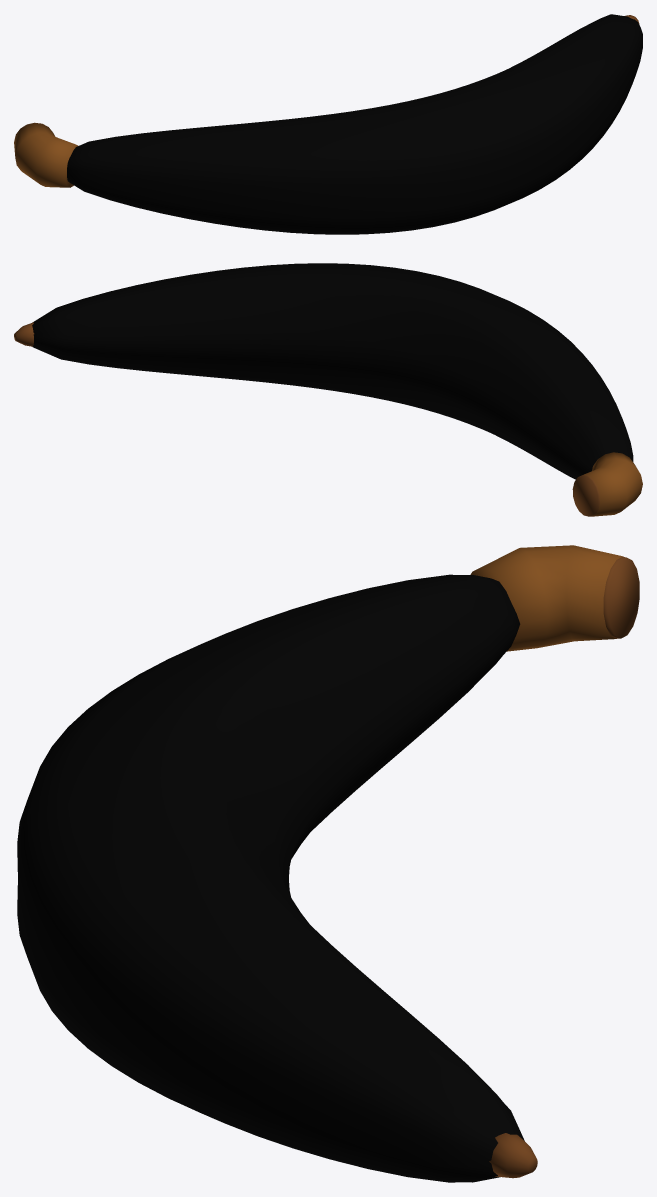
Rendered from banana.fbx.
3 renders of one model, top to bottom at view 1: azimuth 30°, elevation 25°; view 2: azimuth 150°, elevation 25°; view 3: azimuth 270°, elevation 25°, orthographic. The views are drawn at different scales.
Parts seen in each view (by area): view 1: banana.001; view 2: banana.001; view 3: banana.001.
Part boxes in pixels (bbox=[...]): banana.001: bbox=[14, 14, 642, 234]; banana.001: bbox=[14, 263, 642, 516]; banana.001: bbox=[17, 545, 639, 1182].
Bounding box in the file's own units: 100 × 17.83 × 44.42.
